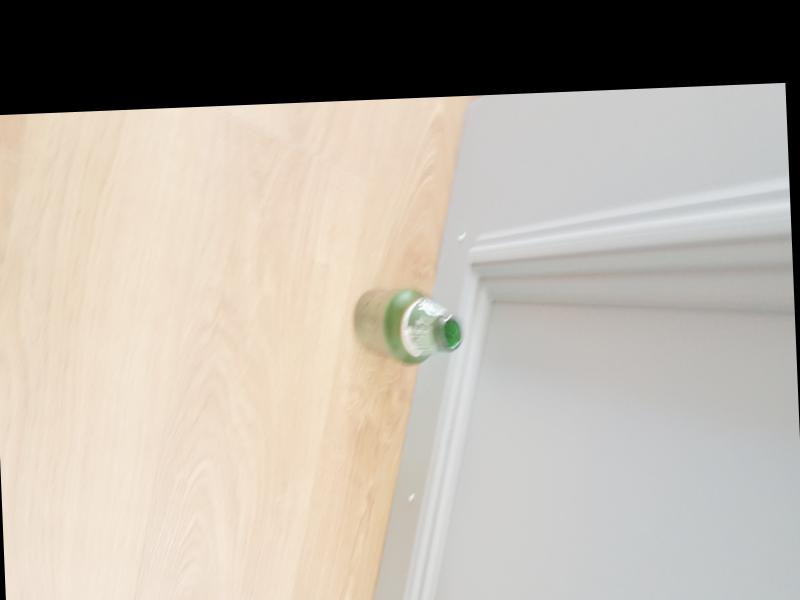Beer: (352, 287, 463, 366)
